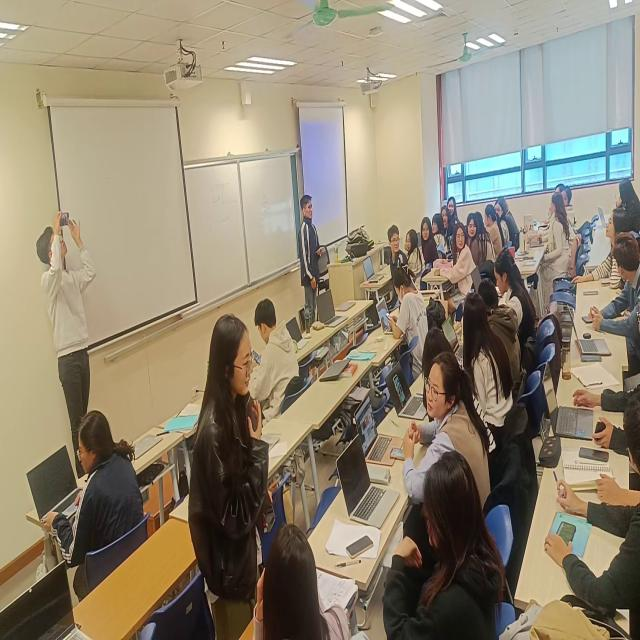raise_head: (251, 524, 354, 640), (403, 222, 429, 278), (601, 207, 630, 248)
stand: (184, 309, 265, 640), (37, 204, 96, 478), (296, 181, 325, 336)
using_computer: (31, 409, 155, 577), (380, 259, 438, 382)
using_phone: (553, 480, 632, 592)
